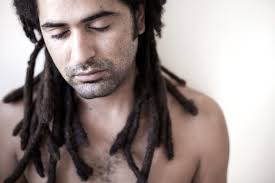middle_eastern_male: (36, 1, 146, 104)
